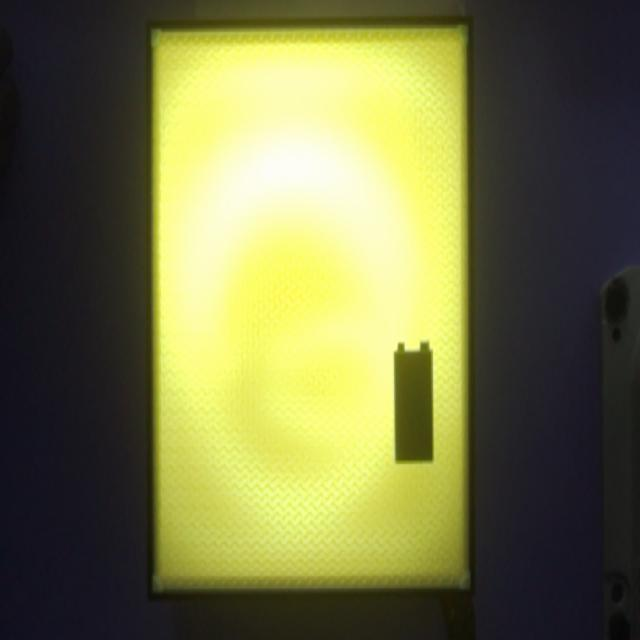bateria: (393, 342, 433, 463)
mesa: (146, 16, 476, 600)
